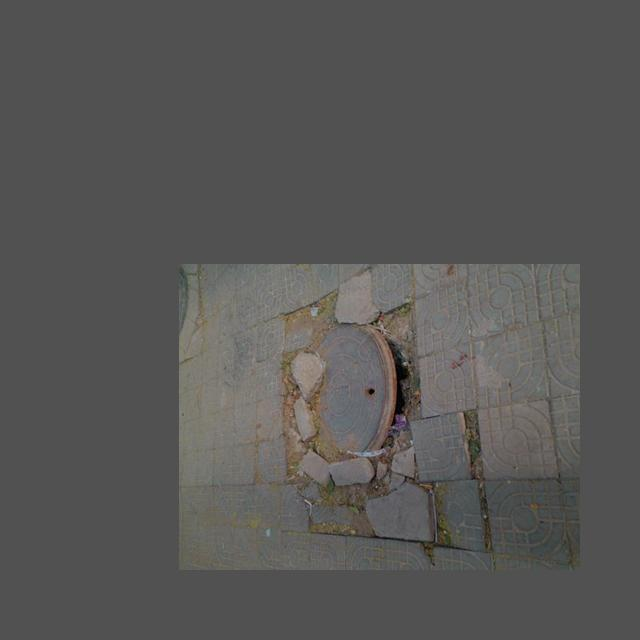circle: (279, 303, 436, 544)
